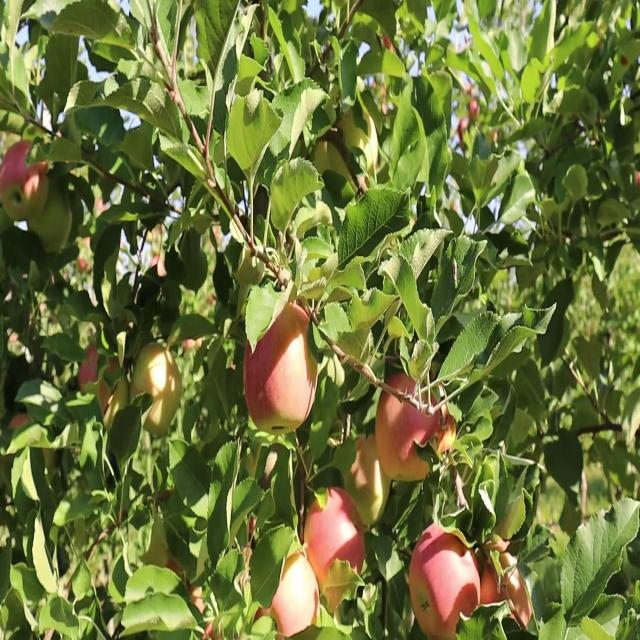apple: (244, 298, 320, 434), (376, 369, 443, 484), (408, 526, 472, 639), (304, 483, 367, 597), (132, 341, 184, 441), (272, 547, 321, 638), (352, 433, 391, 533), (0, 142, 48, 220), (140, 341, 184, 420), (88, 348, 123, 425), (32, 191, 73, 254), (80, 348, 120, 411), (16, 156, 50, 220), (4, 142, 39, 204), (504, 568, 533, 628), (100, 355, 123, 427), (456, 92, 481, 148), (24, 170, 50, 219), (480, 554, 501, 610), (80, 348, 103, 396), (148, 227, 168, 281), (436, 412, 457, 459), (8, 412, 32, 436), (80, 234, 94, 274), (96, 199, 109, 224), (8, 334, 23, 354)
